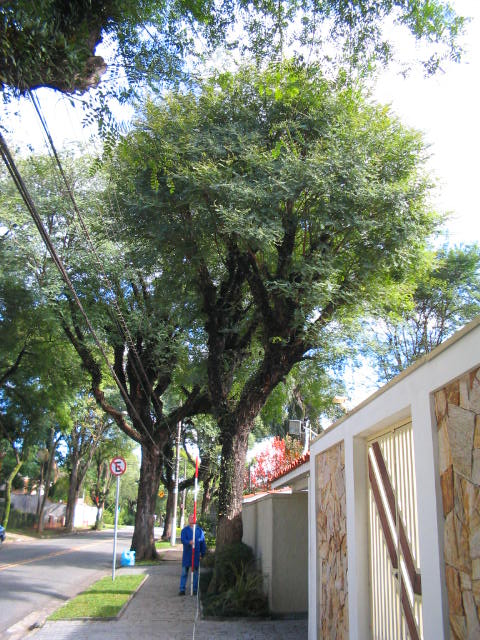crown: (108, 59, 450, 342)
stem: (204, 430, 256, 595)
stick: (186, 455, 202, 594)
tree: (102, 55, 453, 595)
